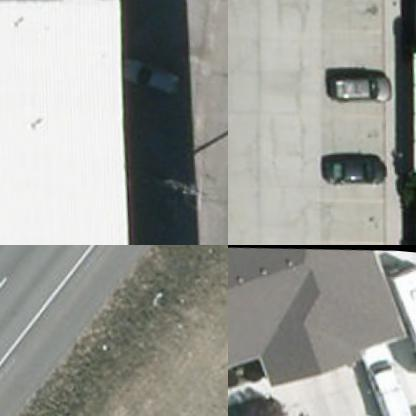camping car: (383, 250, 415, 380)
car: (359, 335, 415, 415), (316, 144, 392, 184), (117, 52, 188, 90), (326, 66, 394, 100)
